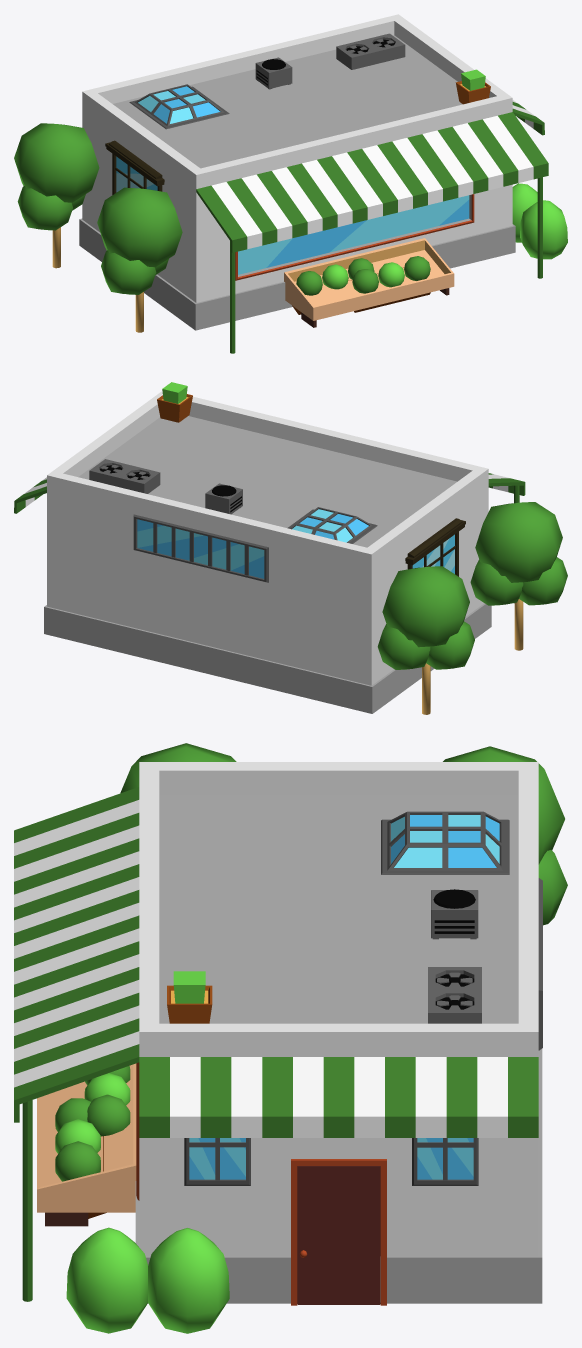
The model's file is restaurant.glb.
The picture shows the model from 3 angles, top to bottom: view 1: azimuth 30°, elevation 25°; view 2: azimuth 150°, elevation 25°; view 3: azimuth 270°, elevation 25°; orthographic projection. The views are drawn at different scales.
Parts seen in each view (by area): view 1: Prop_CommercialBuilding_03, Prop_Tree_08.001, Prop_Tree_08, Prop_RoofWindow_07, Prop_Bush_01, Prop_Plant_01.001, Prop_BuildingWindow_08, Prop_RoofVent_05, Prop_Plant_01, Prop_RoofVent_07, Prop_Plant_02, Prop_Bush_01.001; view 2: Prop_CommercialBuilding_03, Prop_Tree_08.001, Prop_Tree_08, Prop_RoofWindow_04, Prop_RoofWindow_07, Prop_BuildingWindow_08, Prop_RoofVent_05, Prop_Plant_02, Prop_RoofVent_07; view 3: Prop_CommercialBuilding_03, Prop_RoofWindow_07, Prop_Bush_01.001, Prop_Bush_01, Prop_Tree_08, Prop_Plant_01.001, Prop_RoofWindow_05, Prop_RoofWindow_05.001, Prop_RoofVent_05, Prop_Plant_01, Prop_RoofVent_07, Prop_Plant_02 (+2 smaller).
Boxes of the visible parts, <box> form: Prop_CommercialBuilding_03: <box>79,14,548,353</box>; Prop_Tree_08.001: <box>97,187,182,332</box>; Prop_Tree_08: <box>14,123,99,268</box>; Prop_RoofWindow_07: <box>129,84,229,129</box>; Prop_Bush_01: <box>520,200,567,259</box>; Prop_Plant_01.001: <box>348,256,430,312</box>; Prop_BuildingWindow_08: <box>105,140,164,194</box>; Prop_RoofVent_05: <box>336,33,405,69</box>; Prop_Plant_01: <box>292,258,374,314</box>; Prop_RoofVent_07: <box>255,57,292,89</box>; Prop_Plant_02: <box>455,69,490,104</box>; Prop_Bush_01.001: <box>512,183,537,242</box>; Prop_CommercialBuilding_03: <box>14,391,525,713</box>; Prop_Tree_08.001: <box>470,502,567,650</box>; Prop_Tree_08: <box>377,566,474,714</box>; Prop_RoofWindow_04: <box>133,514,268,582</box>; Prop_RoofWindow_07: <box>287,507,377,543</box>; Prop_BuildingWindow_08: <box>405,518,465,576</box>; Prop_RoofVent_05: <box>89,459,160,493</box>; Prop_Plant_02: <box>157,382,192,422</box>; Prop_RoofVent_07: <box>205,483,242,514</box>; Prop_CommercialBuilding_03: <box>14,762,542,1305</box>; Prop_RoofWindow_07: <box>381,811,509,874</box>; Prop_Bush_01.001: <box>148,1228,229,1333</box>; Prop_Bush_01: <box>66,1227,147,1333</box>; Prop_Tree_08: <box>443,746,567,925</box>; Prop_Plant_01.001: <box>55,1098,106,1218</box>; Prop_RoofWindow_05: <box>412,1138,478,1185</box>; Prop_RoofWindow_05.001: <box>184,1138,250,1185</box>; Prop_RoofVent_05: <box>428,967,481,1023</box>; Prop_Plant_01: <box>84,1066,130,1136</box>; Prop_RoofVent_07: <box>431,889,478,939</box>; Prop_Plant_02: <box>167,971,212,1023</box>.
Bounding box in the file's own units: 13.44 × 5.14 × 8.32.
1 material, 1 textured.
